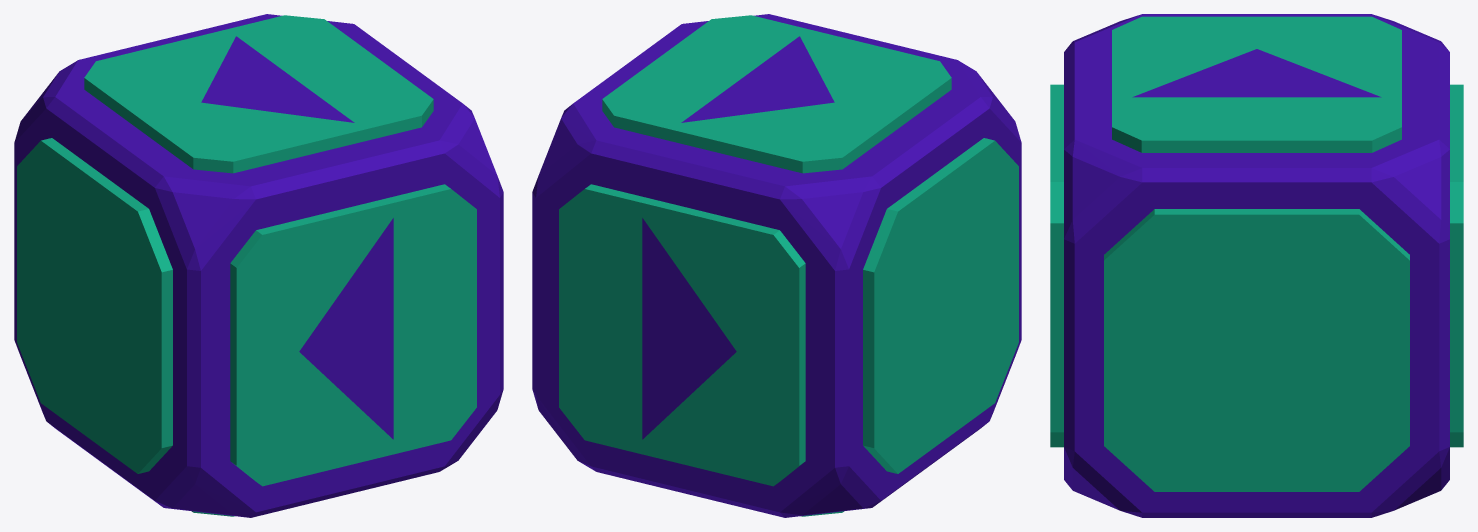
The picture shows the model from 3 angles, left to right: view 1: azimuth 30°, elevation 25°; view 2: azimuth 150°, elevation 25°; view 3: azimuth 270°, elevation 25°; orthographic projection. The views are drawn at different scales.
Parts seen in each view (by area): view 1: FK-02-1; view 2: FK-02-1; view 3: FK-02-1.
Boxes of the visible parts, left/top/right/bottom form: FK-02-1: left=14, top=14, right=503, bottom=517; FK-02-1: left=532, top=14, right=1021, bottom=517; FK-02-1: left=1050, top=14, right=1463, bottom=517.
Size of the model in its own units: 9.97 by 9.97 by 9.97.
